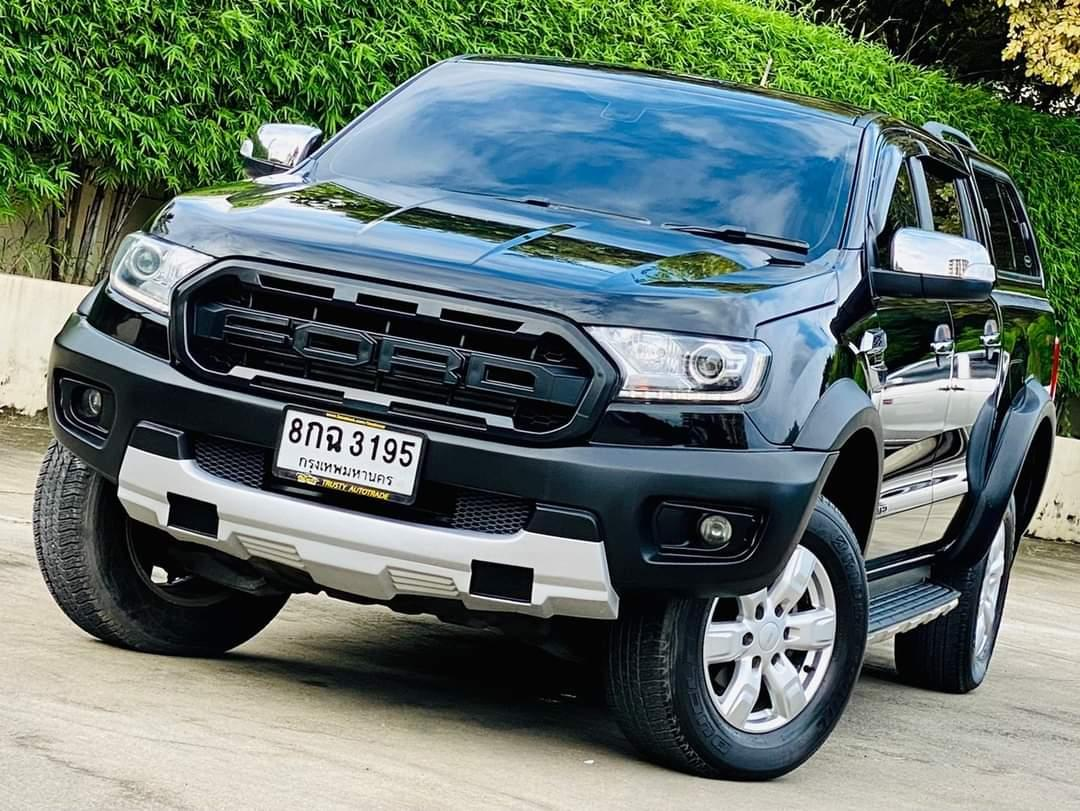license-plate: (266, 400, 430, 513)
